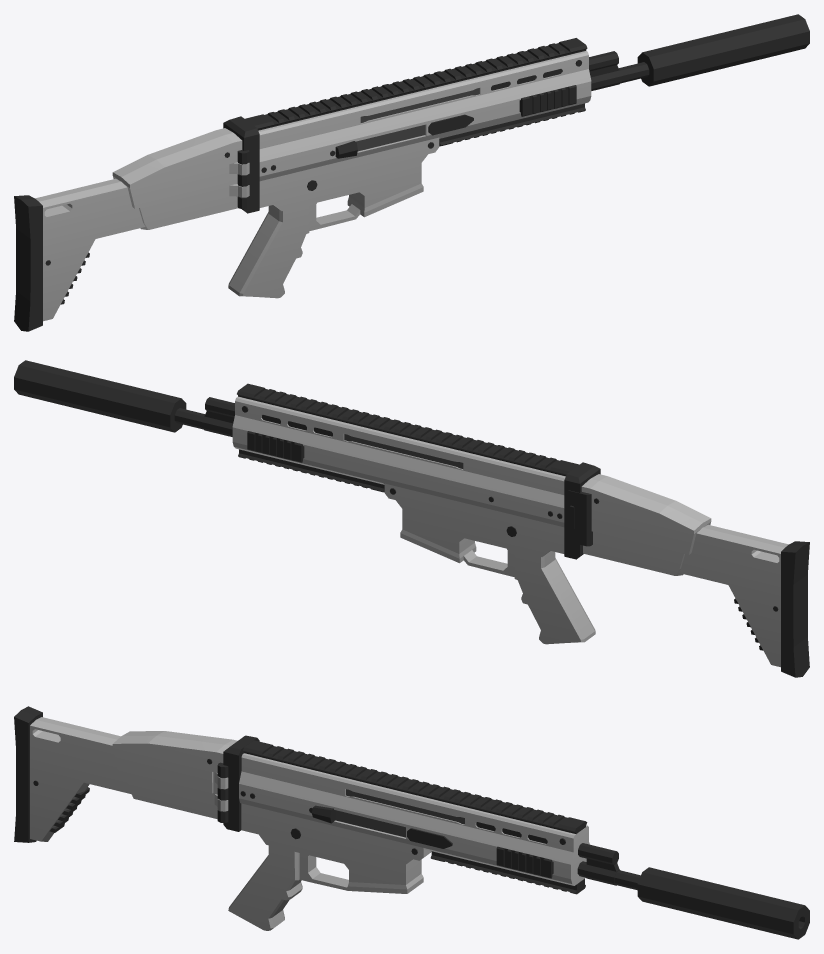
The model's file is AssaultRifle6_04.fbx.
3 renders of one model, top to bottom at view 1: azimuth 30°, elevation 25°; view 2: azimuth 150°, elevation 25°; view 3: azimuth 330°, elevation 25°, orthographic.
Visible parts, largest first — view 1: AssaultRifle6_04; view 2: AssaultRifle6_04; view 3: AssaultRifle6_04.
Part boxes in pixels (<box>): AssaultRifle6_04: <box>14,14,809,331</box>; AssaultRifle6_04: <box>14,360,809,677</box>; AssaultRifle6_04: <box>14,706,809,939</box>.
Size of the model in its own units: 1.07 by 0.2319 by 0.0635.
